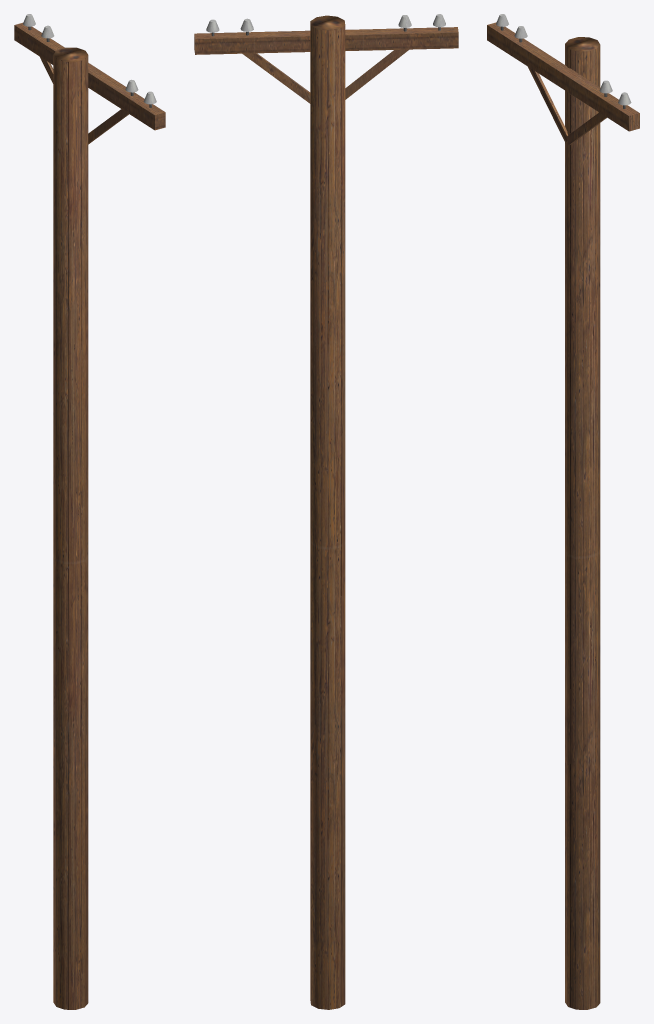
The picture shows the model from 3 angles, left to right: view 1: azimuth 90°, elevation 25°; view 2: azimuth 150°, elevation 25°; view 3: azimuth 270°, elevation 25°; orthographic projection. The views are drawn at different scales.
Parts seen in each view (by area): view 1: Cylinder001; view 2: Cylinder001; view 3: Cylinder001.
Boxes of the visible parts, x1,y1,x2,y2 form: Cylinder001: (14,14,165,1009); Cylinder001: (194,14,458,1009); Cylinder001: (487,14,639,1009).
Size of what is drawn, in the model's own units: 97.74 by 463 by 67.01.
Materials: 1 (1 with a texture image).
